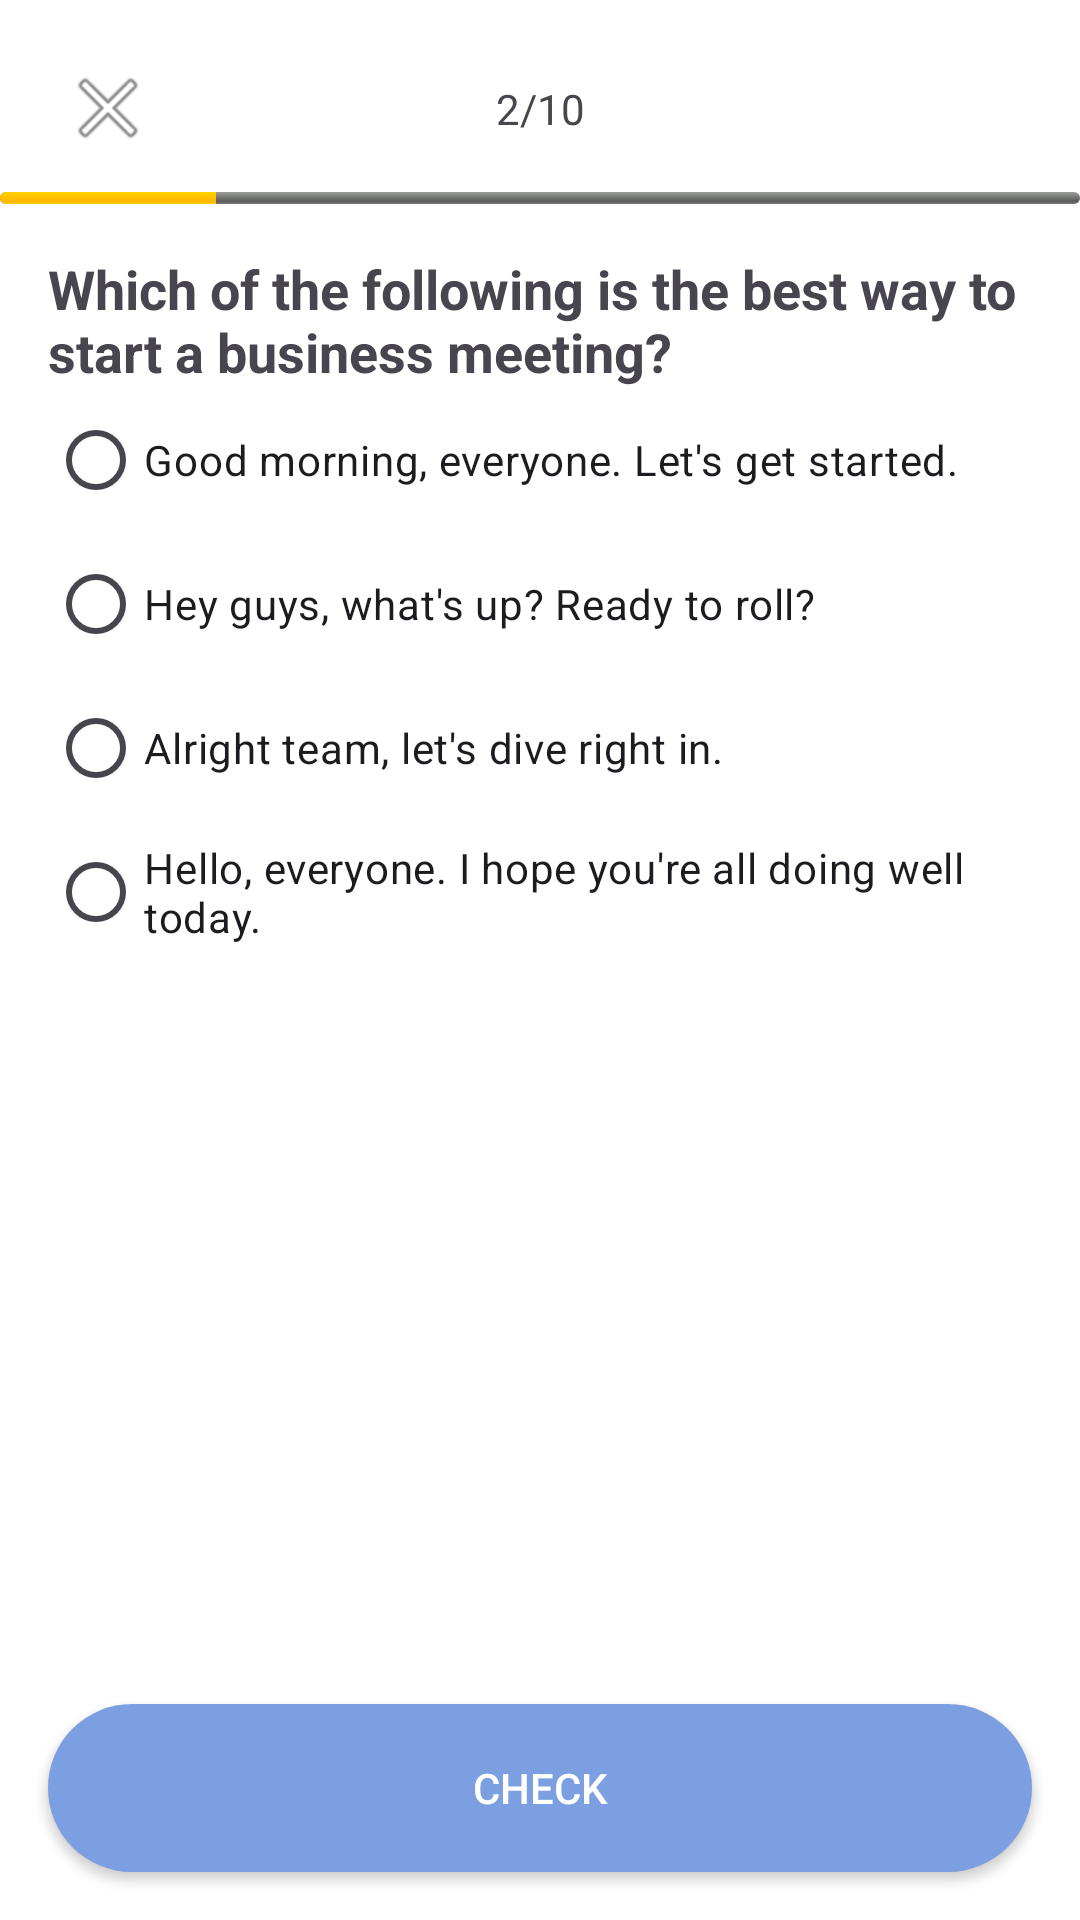

Icon bounding boxes for this 1080 x 1920 phone screenshot, format [left=x1, top=y1, right=x2, bottom=y2]:
Close: [left=78, top=78, right=138, bottom=138]
